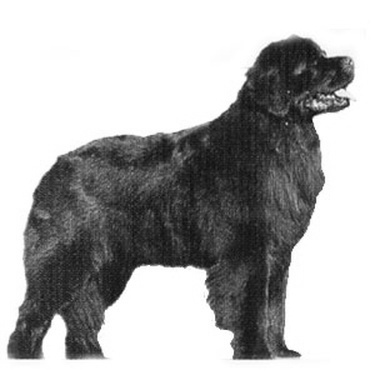dog: (11, 25, 357, 369)
